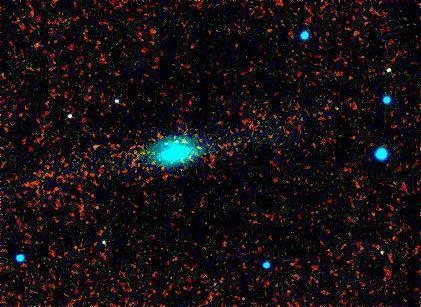star: (83, 131, 113, 161)
